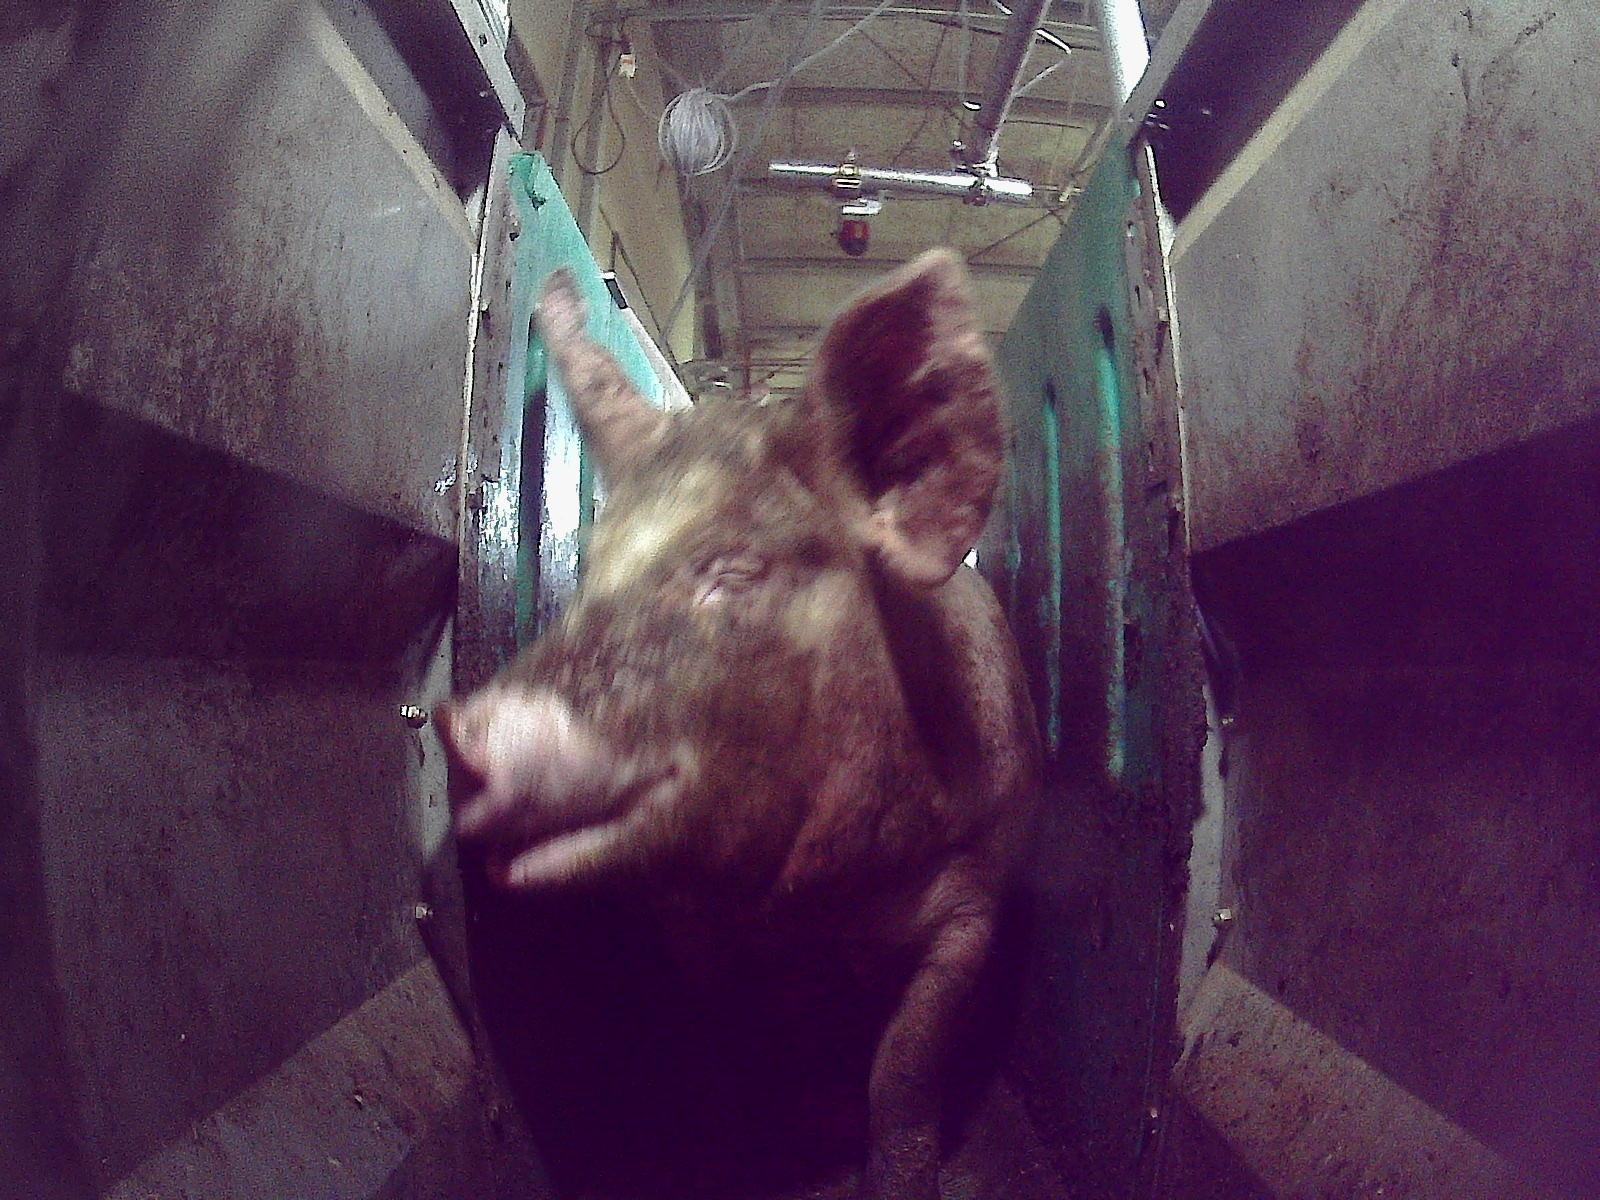Face: (437, 401, 922, 916)
